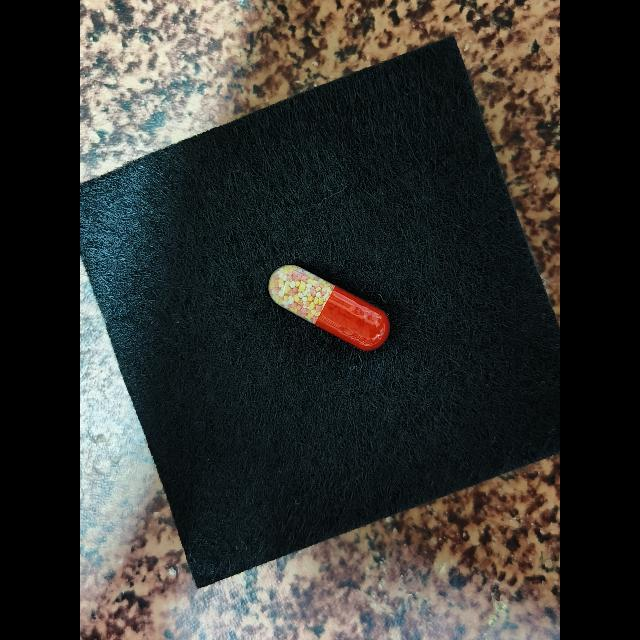Intact Capsule: (269, 265, 390, 351)
